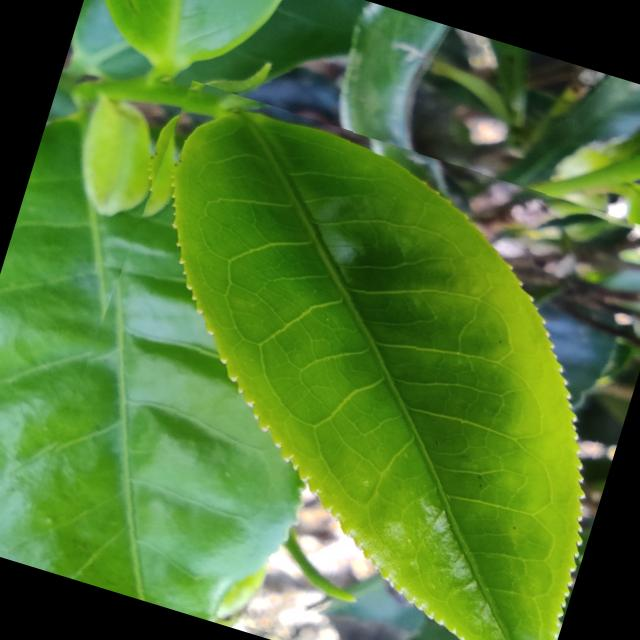Category B(2-4 days): (15, 70, 640, 640)
